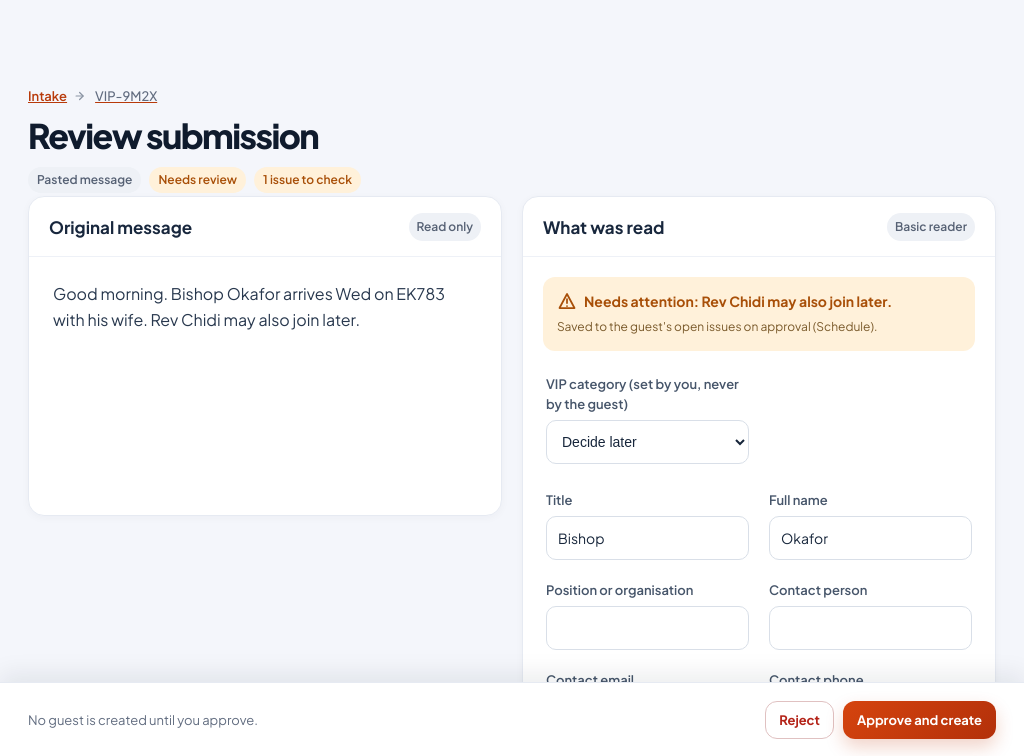
ReviewScreen › keeps the submission open and marks the field when approval finds something missing
Expected: the text "Good morning. Bishop Okafor arrives Wed on EK783 with his wife. Rev Chidi may also join later." is shown, [53, 283, 448, 330]
Click the button "Approve and create": (919, 720) [843, 700, 996, 738]
(page scrolled)
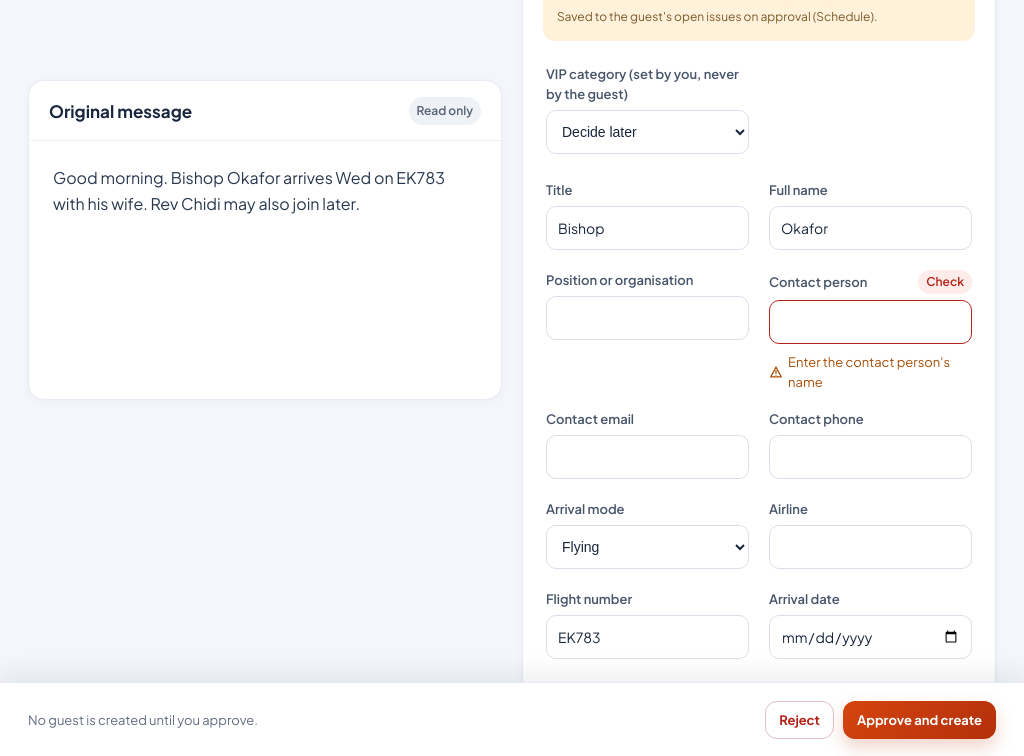
Expected: the text "Enter the contact person's name" is shown, [769, 352, 972, 392]
